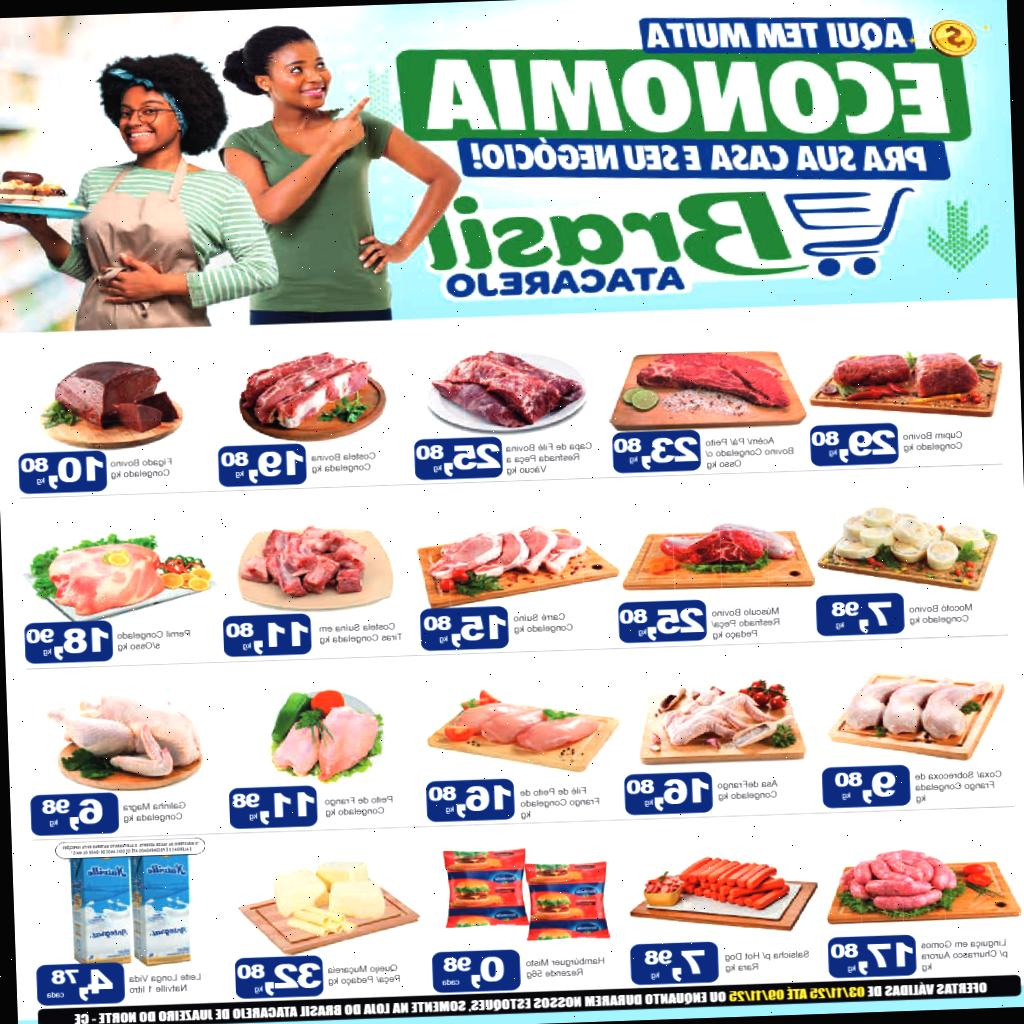price: (422, 611, 507, 650), (230, 789, 316, 827), (624, 776, 710, 814), (619, 604, 704, 642), (25, 624, 110, 662), (829, 939, 916, 976), (220, 447, 304, 485), (20, 454, 106, 491), (612, 434, 700, 470), (414, 442, 502, 478), (810, 428, 897, 464), (428, 782, 512, 819), (224, 619, 308, 655), (236, 961, 320, 997), (830, 767, 900, 806), (437, 953, 507, 991), (42, 967, 114, 1003), (39, 796, 104, 834), (641, 946, 709, 982), (828, 598, 895, 634)
product_text: (702, 432, 796, 472), (912, 766, 1005, 804), (504, 438, 596, 476), (919, 936, 1011, 974), (517, 783, 602, 821), (707, 604, 783, 642), (722, 947, 812, 976), (315, 620, 403, 648), (322, 790, 399, 820), (324, 960, 404, 988), (126, 969, 204, 997), (523, 954, 607, 980), (114, 626, 194, 652), (900, 426, 968, 455), (907, 600, 975, 627), (308, 448, 377, 474), (121, 798, 187, 824), (109, 456, 174, 482), (511, 610, 576, 636), (715, 778, 780, 804)
